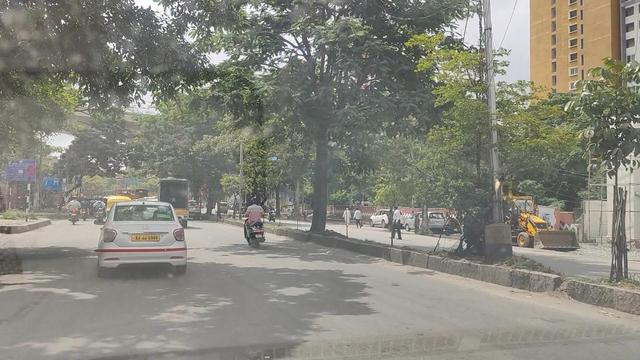LMV: (108, 199, 193, 280), (239, 198, 268, 247)
